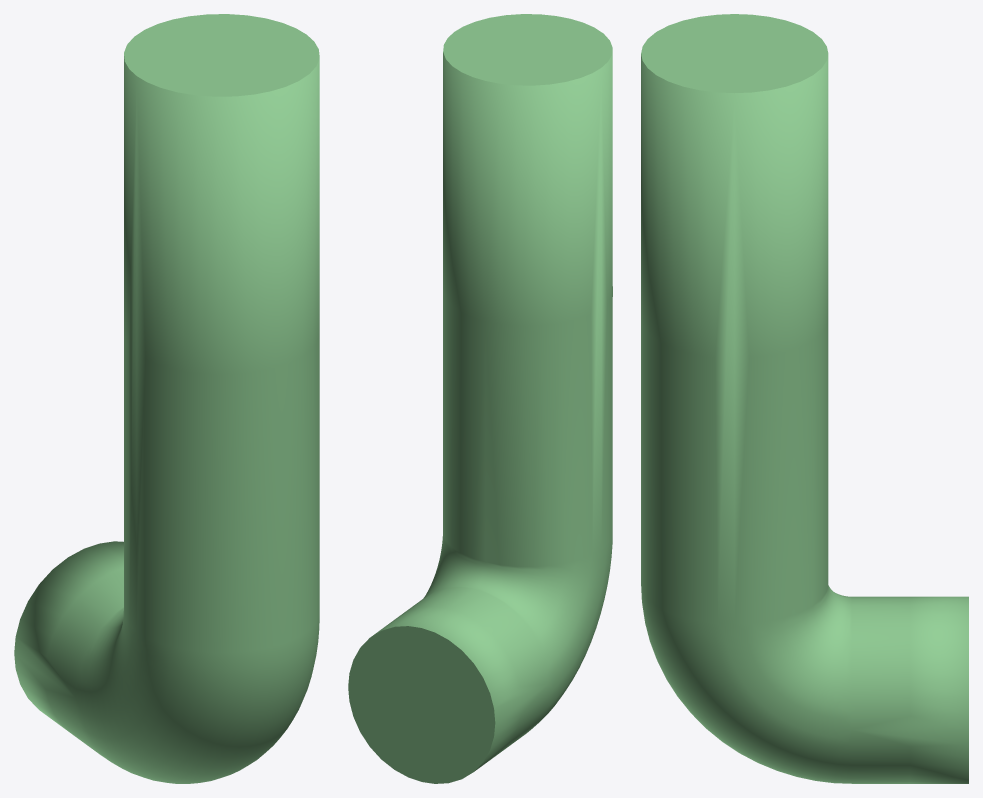
3 views of the same model, side by side, from view 1: azimuth 30°, elevation 25°; view 2: azimuth 150°, elevation 25°; view 3: azimuth 270°, elevation 25° (orthographic). The views are drawn at different scales.
Parts seen in each view (by area): view 1: link2; view 2: link2; view 3: link2.
Boxes of the visible parts, x1=… form: link2: x1=14, y1=14, x2=319, y2=783; link2: x1=348, y1=14, x2=612, y2=783; link2: x1=641, y1=14, x2=968, y2=783.
Size of the model in its own units: 80 by 140 by 340.
